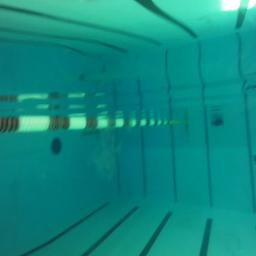Full: (210, 118, 224, 128)
